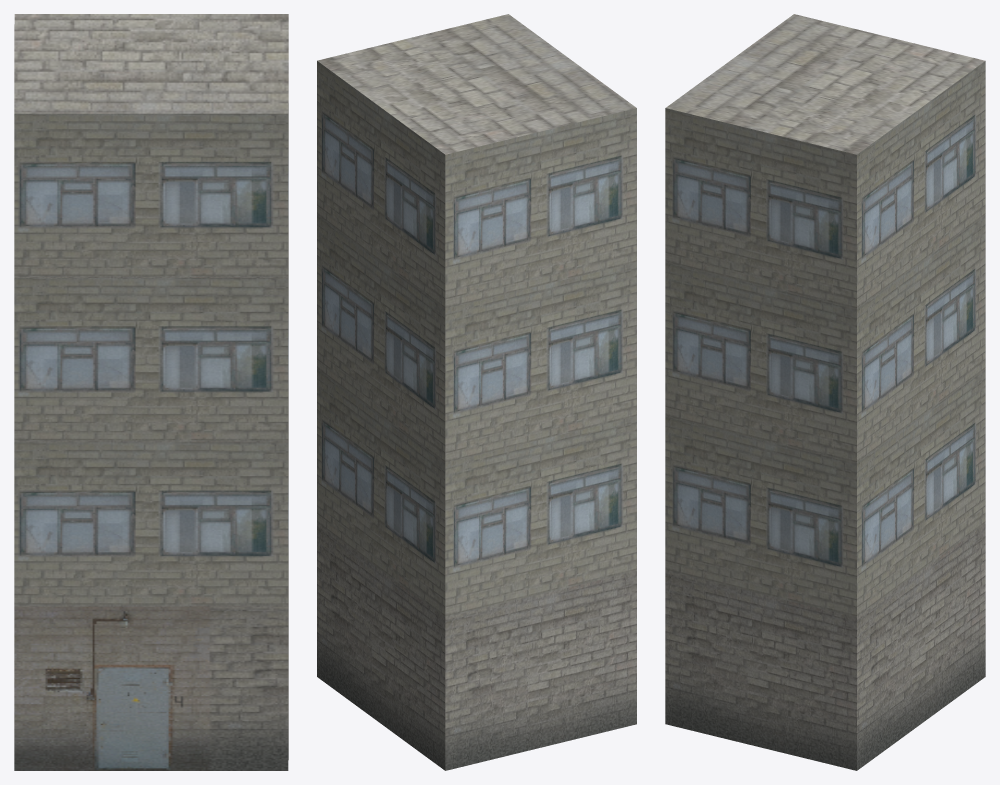
File: building1.fbx
The picture shows the model from 3 angles, left to right: view 1: azimuth 30°, elevation 25°; view 2: azimuth 150°, elevation 25°; view 3: azimuth 270°, elevation 25°; orthographic projection. The views are drawn at different scales.
Visible parts, largest first — view 1: flat; view 2: flat; view 3: flat.
Part boxes in pixels (x1,y1,x2,y2): flat: [14, 14, 288, 770]; flat: [317, 14, 636, 770]; flat: [665, 14, 985, 770].
Size of the model in its own units: 2095 by 4275 by 2013.
